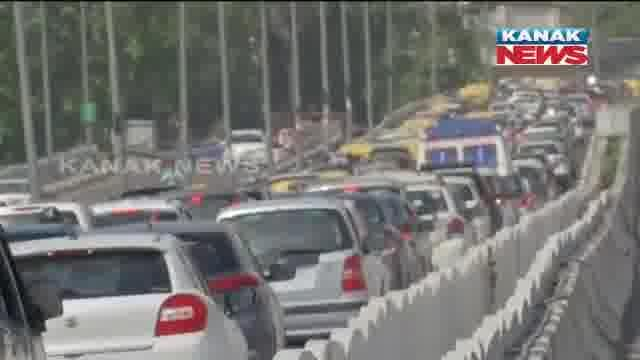AMBULANCE: (418, 115, 505, 162)
